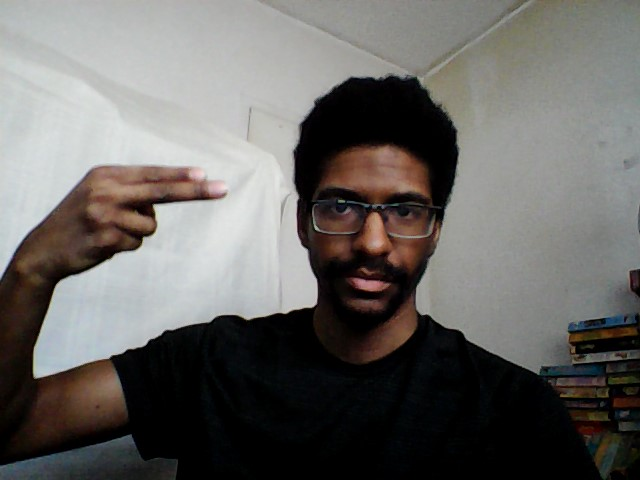h: (34, 160, 232, 277)
